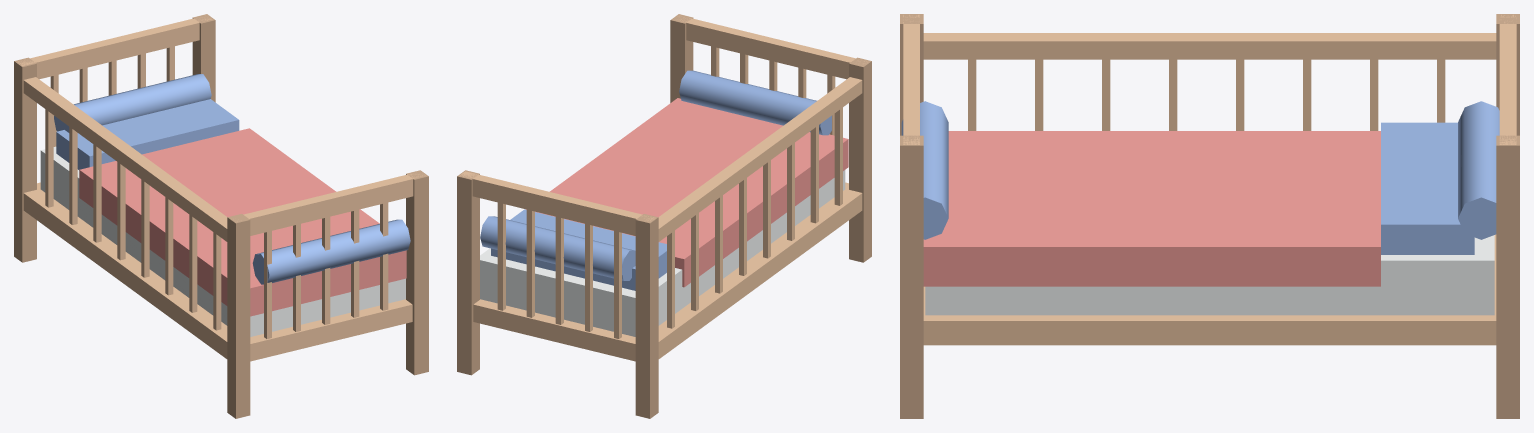
Rendered from daybedCottage.glb.
The picture shows the model from 3 angles, left to right: view 1: azimuth 30°, elevation 25°; view 2: azimuth 150°, elevation 25°; view 3: azimuth 270°, elevation 25°; orthographic projection. The views are drawn at different scales.
Parts seen in each view (by area): view 1: daybedCottage; view 2: daybedCottage; view 3: daybedCottage.
Part boxes in pixels (x1,y1,x2,y2): daybedCottage: [14, 14, 428, 418]; daybedCottage: [457, 14, 871, 418]; daybedCottage: [900, 14, 1519, 418].
Size of the model in its own units: 0.465 by 0.45 by 0.925.
